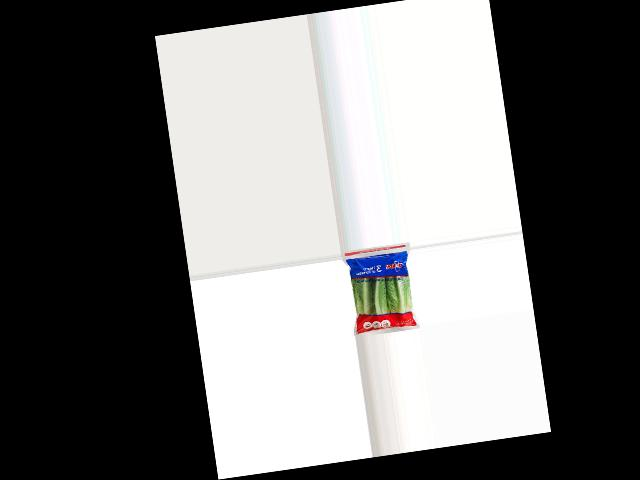lettuce: (344, 246, 421, 337)
